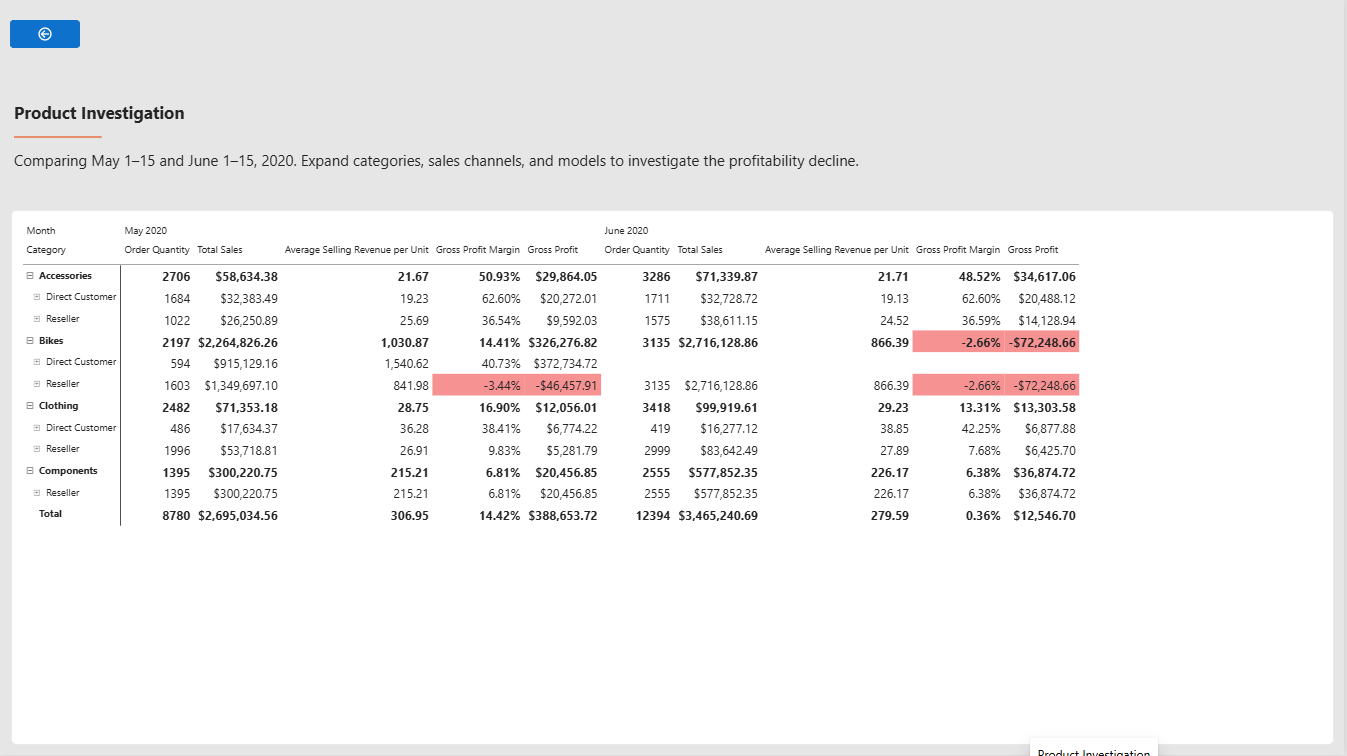

This screenshot's page, from the dashboard's own definition file:
{"tool":"powerbi","page":{"name":"Product Investigation","canvas":[1920,1080],"ordinal":6},"visuals":[{"type":"pivotTable","title":"Product Investigation","fields":{"Columns":["Date.Month"],"Rows":["Product.Category","Sales.Sales Channel","Product.Model","Product.Product"],"Values":["Sum(Sales.Order Quantity)","Sales.Total Sales","Sales.Average Selling Revenue per Unit","Sales.Gross Profit Margin","Sales.Gross Profit"]},"box":[15.3,301.7,1889.8,764.4],"z":0},{"type":"actionButton","box":[14.6,30.6,100,40],"z":1000},{"type":"textbox","box":[20.3,145.8,1313.6,115.3],"z":2000},{"type":"shape","box":[20.3,167.8,125.4,60],"z":3000}]}

Visuals, with their boxes in screenshot pixels (x1, y1, x2, y2), scaled from the page's 1920x1080 canvas onto the 1347x756 screenshot:
"Product Investigation" pivotTable: [x1=11, y1=211, x2=1337, y2=746]
actionButton: [x1=10, y1=21, x2=80, y2=49]
textbox: [x1=14, y1=102, x2=936, y2=183]
shape: [x1=14, y1=117, x2=102, y2=159]
